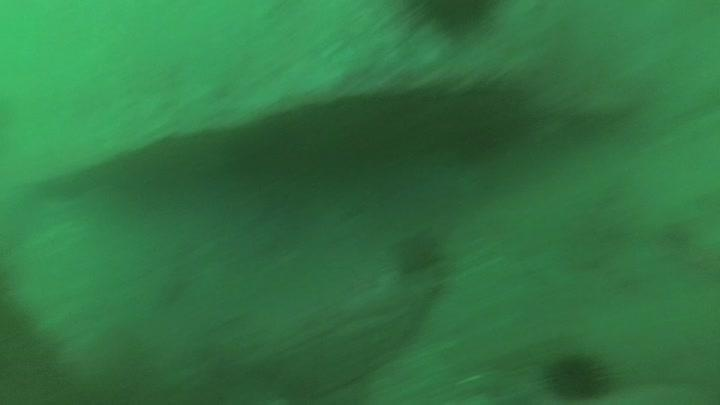echinus: (435, 73, 537, 166), (542, 348, 617, 402), (394, 1, 500, 39)
starfish: (391, 227, 446, 278)
